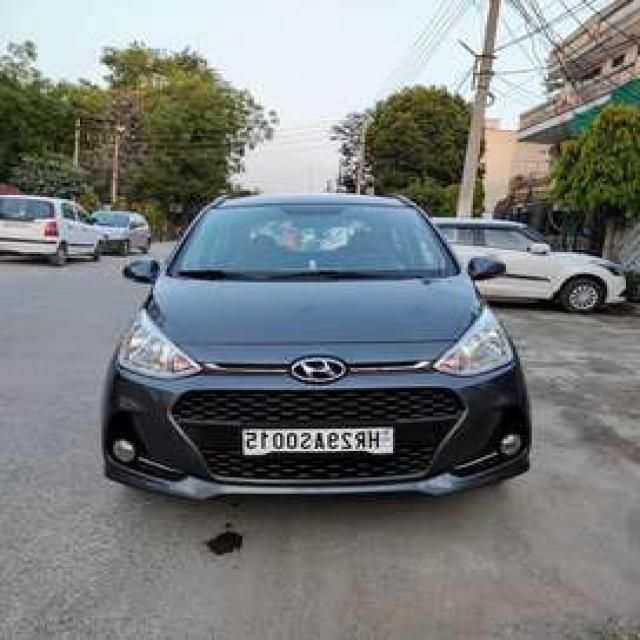license_plate: (235, 423, 398, 462)
